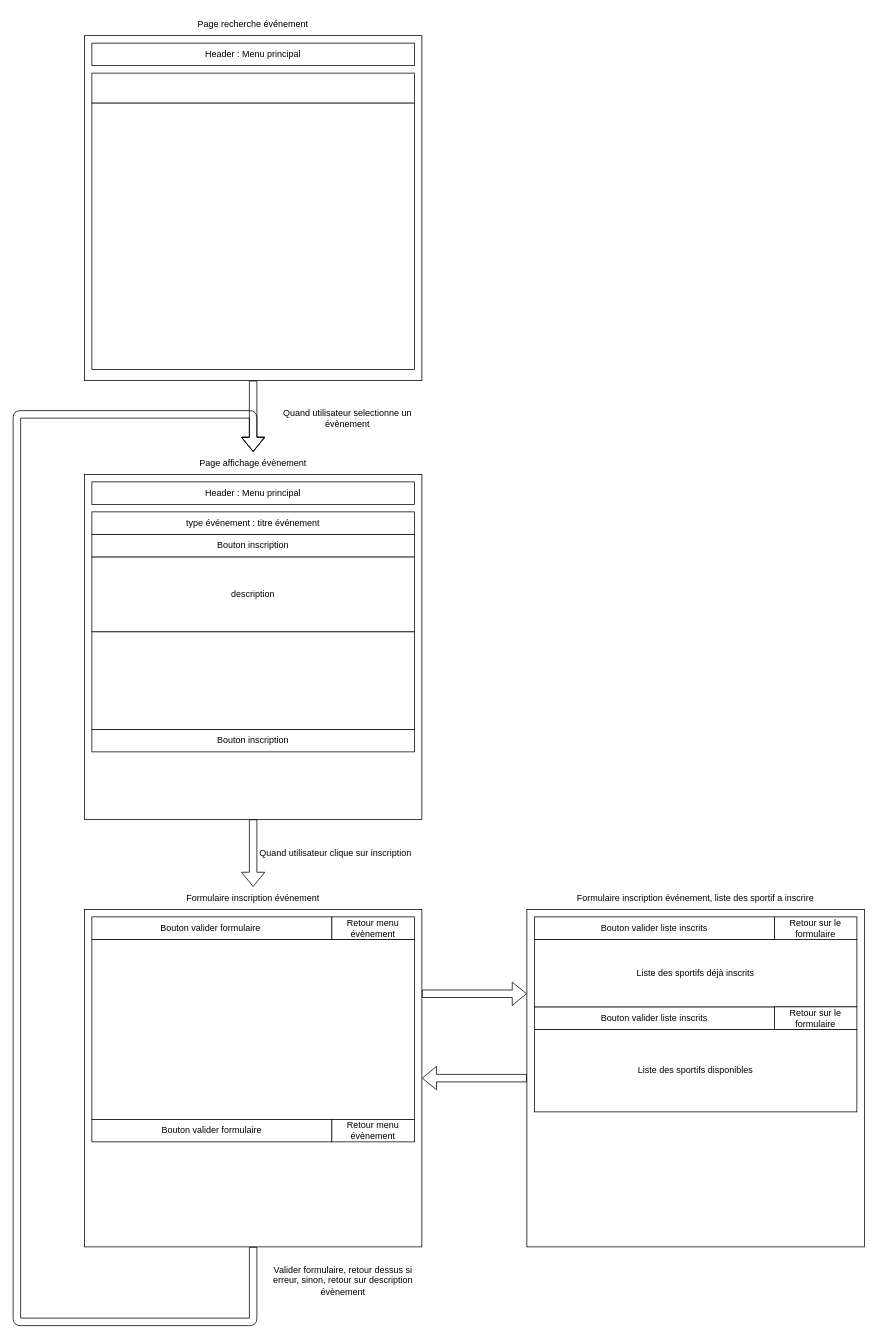
The diagram is 878 pixels wide and 1339 high, and some of its shapes have lost their labels. The shapes that lost their labels are listed below. From the top down, each one's centre as x and y in pixels, then its label:
pixel 252 87: Critères de recherches
pixel 252 235: Liste événements
pixel 252 680: infos pratiques : - dates - lieu
pixel 252 1029: Formulaire inscription : - liste des sportifs du club à inscrire
